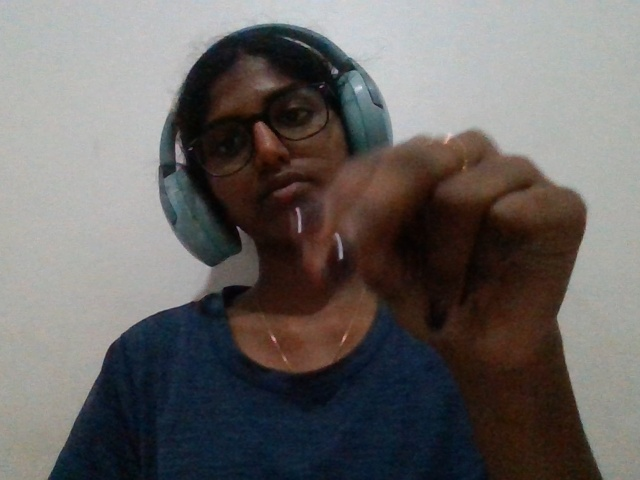No: (203, 125, 614, 436)
